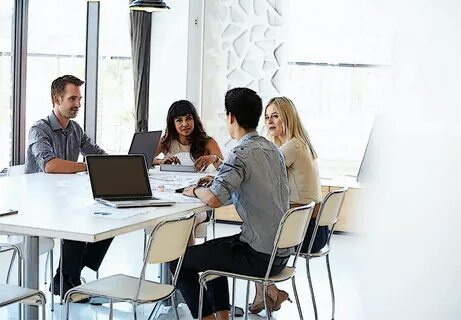awake: (197, 87, 290, 273), (264, 95, 330, 252), (23, 74, 108, 175), (151, 99, 224, 169)
